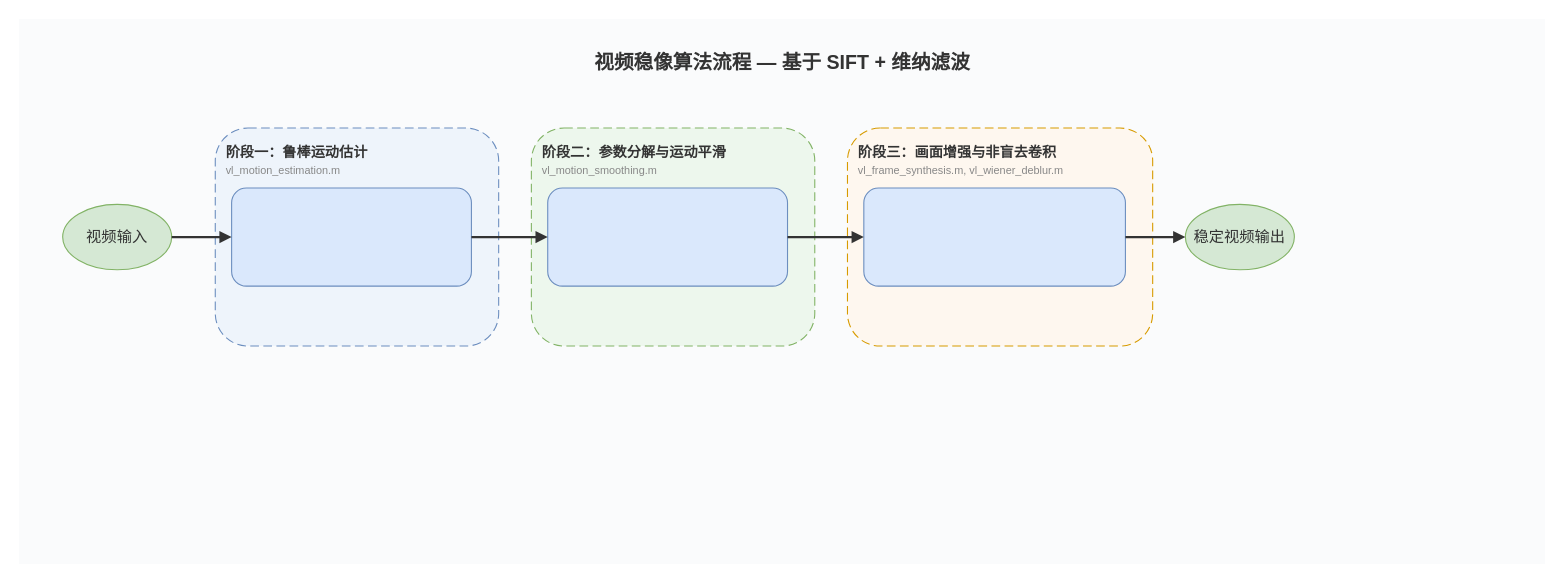
Image size: 1563x582. Some labels were removed from this diagram. The centre of each missing label's shape, as x and y in pixels:
6自由度参数分解 平移 / 旋转 / 缩放 高斯平滑: the point at 667,236
SIFT + RANSAC 提取帧间变换矩阵: the point at 351,236
物理运动推导模糊核 + 维纳滤波非盲去卷积: the point at 994,236
